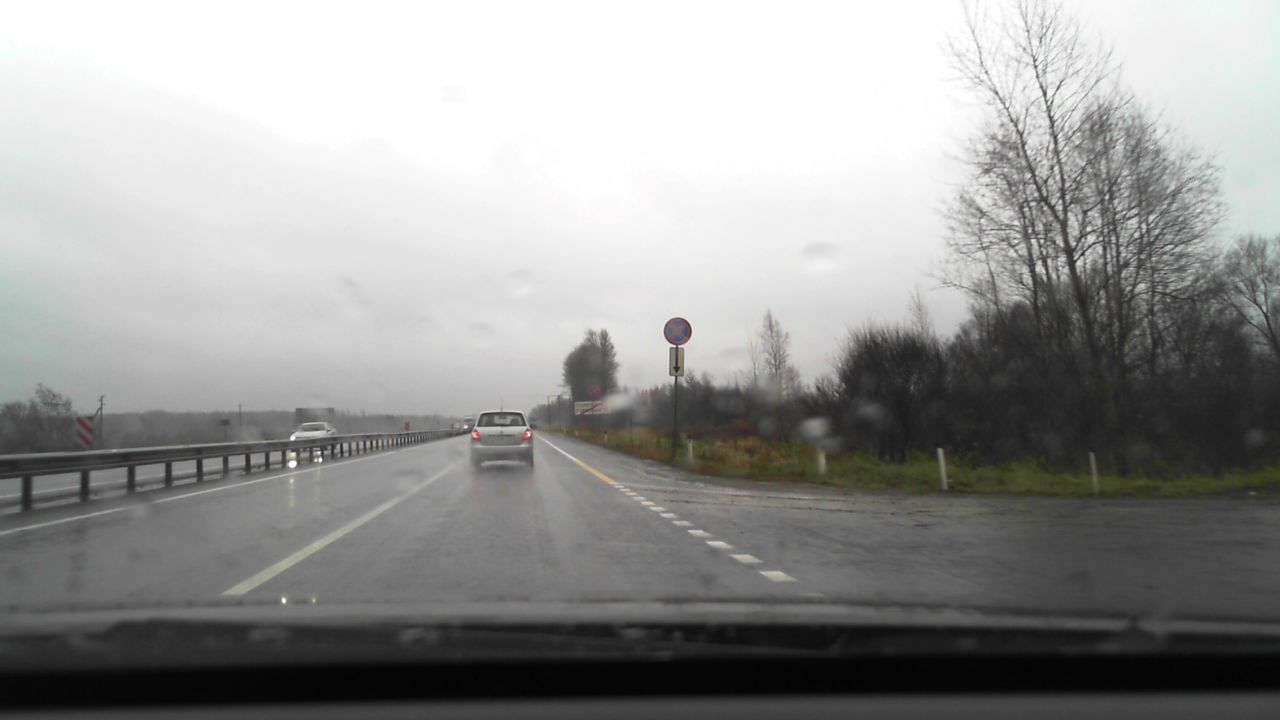No Parking: (664, 317, 691, 344)
